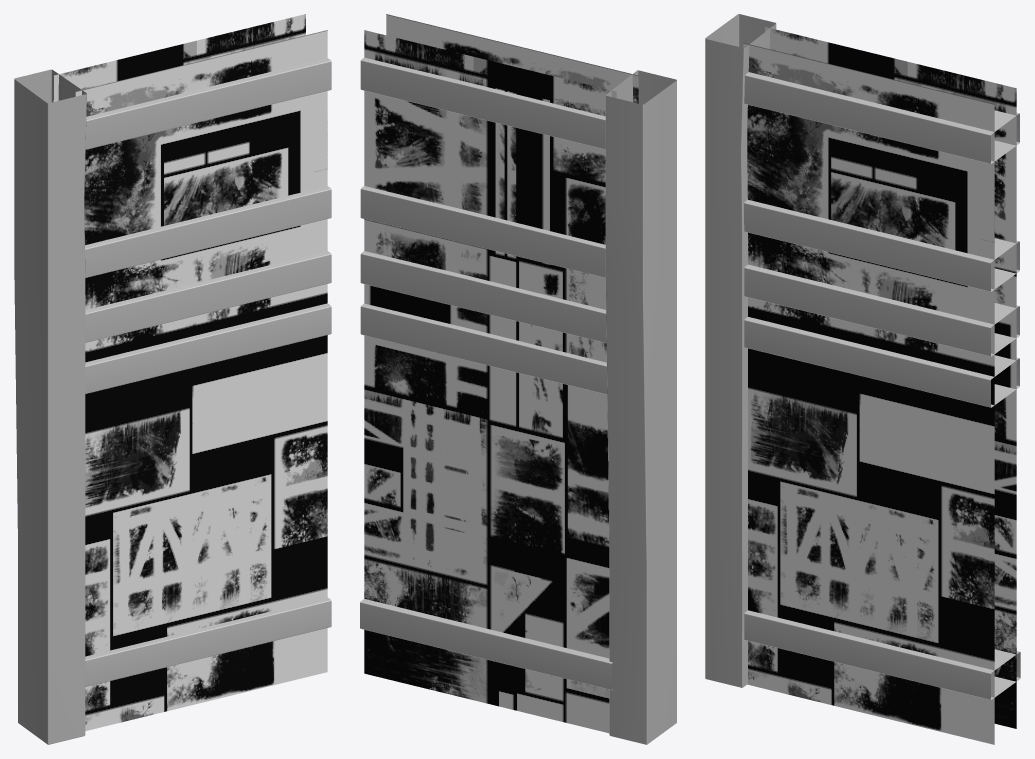
The model's file is SM_wall01_Wall_017.fbx.
The picture shows the model from 3 angles, left to right: view 1: azimuth 30°, elevation 25°; view 2: azimuth 150°, elevation 25°; view 3: azimuth 330°, elevation 25°; orthographic projection.
Visible parts, largest first — view 1: SM_wall01_Wall_017_LOD0; view 2: SM_wall01_Wall_017_LOD0; view 3: SM_wall01_Wall_017_LOD0.
Part boxes in pixels (<box>): SM_wall01_Wall_017_LOD0: <box>14,14,331,744</box>; SM_wall01_Wall_017_LOD0: <box>360,14,676,744</box>; SM_wall01_Wall_017_LOD0: <box>705,14,1020,744</box>.
Size of the model in its own units: 150 by 31.03 by 323.
